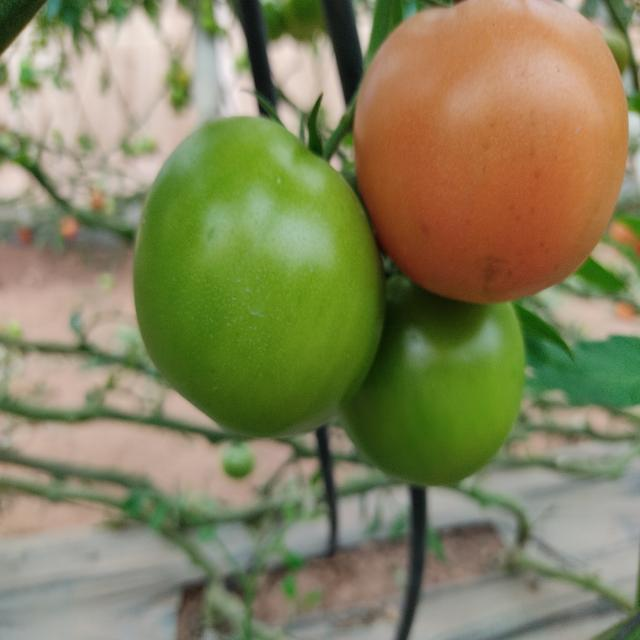Ripe Tomato: (355, 0, 627, 301)
Unripe Tomato: (140, 117, 382, 429), (350, 278, 528, 484)
